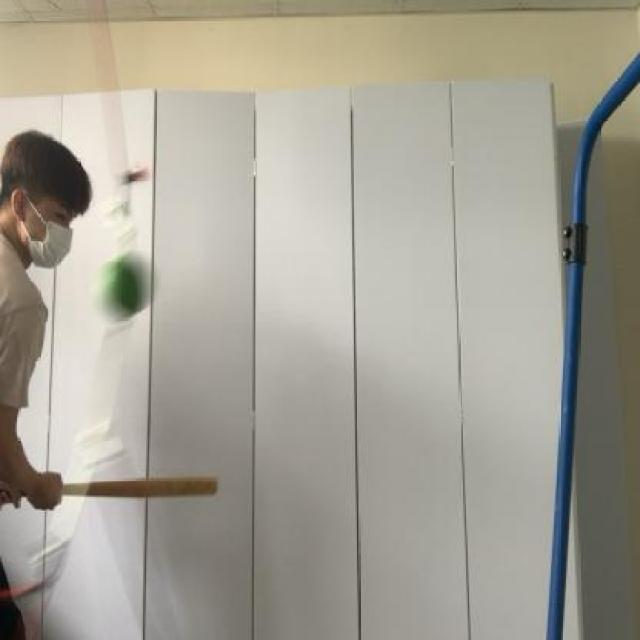baseball: (90, 245, 167, 329)
